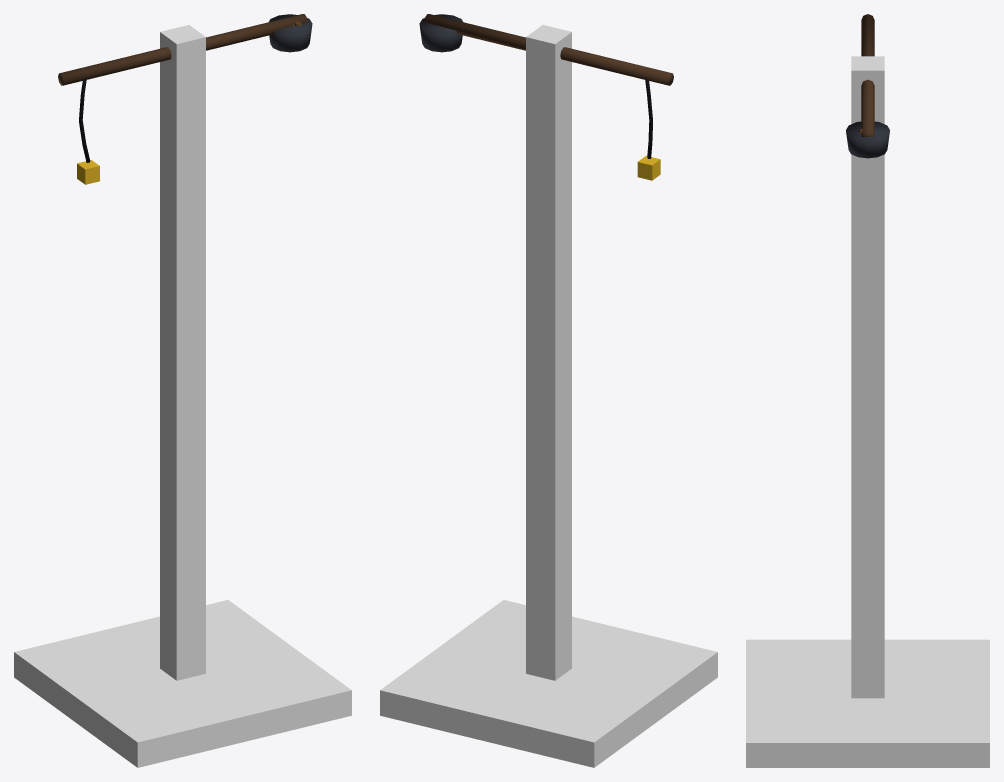
The model's file is Furn_ParrotPerch.glb.
3 views of the same model, side by side, from view 1: azimuth 30°, elevation 25°; view 2: azimuth 150°, elevation 25°; view 3: azimuth 270°, elevation 25° (orthographic).
Parts seen in each view (by area): view 1: Furn_ParrotPerch_COL, Furn_ParrotPerch_COL1, Furn_ParrotPerch; view 2: Furn_ParrotPerch_COL, Furn_ParrotPerch_COL1, Furn_ParrotPerch; view 3: Furn_ParrotPerch_COL, Furn_ParrotPerch_COL1, Furn_ParrotPerch.
Boxes of the visible parts, bbox=[...] form: Furn_ParrotPerch_COL: bbox=[14, 600, 351, 767]; Furn_ParrotPerch_COL1: bbox=[160, 25, 205, 680]; Furn_ParrotPerch: bbox=[58, 14, 312, 184]; Furn_ParrotPerch_COL: bbox=[380, 600, 717, 767]; Furn_ParrotPerch_COL1: bbox=[526, 25, 571, 680]; Furn_ParrotPerch: bbox=[419, 14, 673, 180]; Furn_ParrotPerch_COL: bbox=[746, 639, 989, 767]; Furn_ParrotPerch_COL1: bbox=[851, 56, 884, 698]; Furn_ParrotPerch: bbox=[846, 14, 889, 158].
Size of the model in its own units: 0.51 by 1.3 by 0.44.
